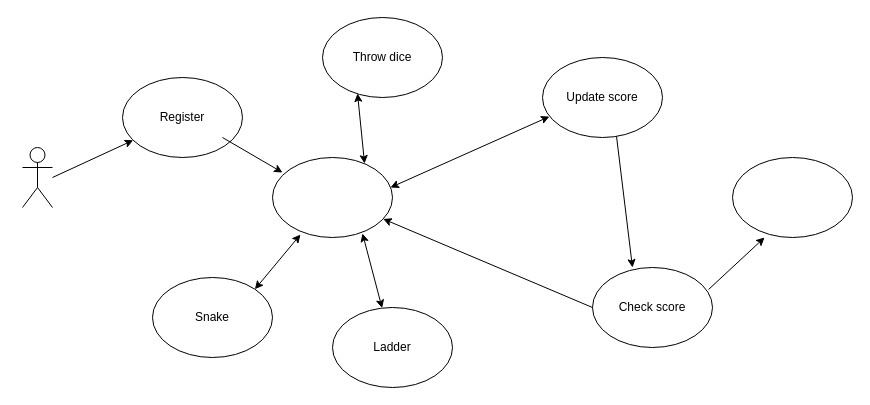
The diagram is 870 pixels wide and 405 high, and some of its shapes have lost their labels. Here are the shapes that lost their labels. From the top down, the centre of each, then its label:
At pixel 37 177: "Players".
At pixel 332 197: "Play game".
At pixel 792 197: "Winner".
